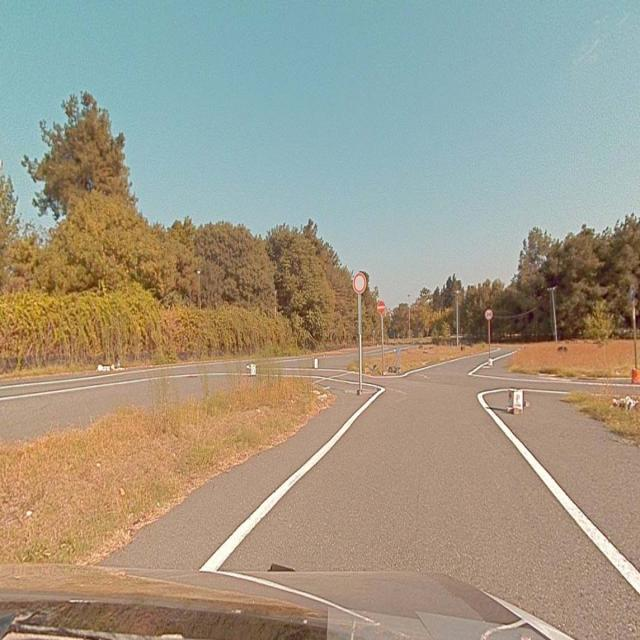girisyok: (377, 302, 386, 314)
